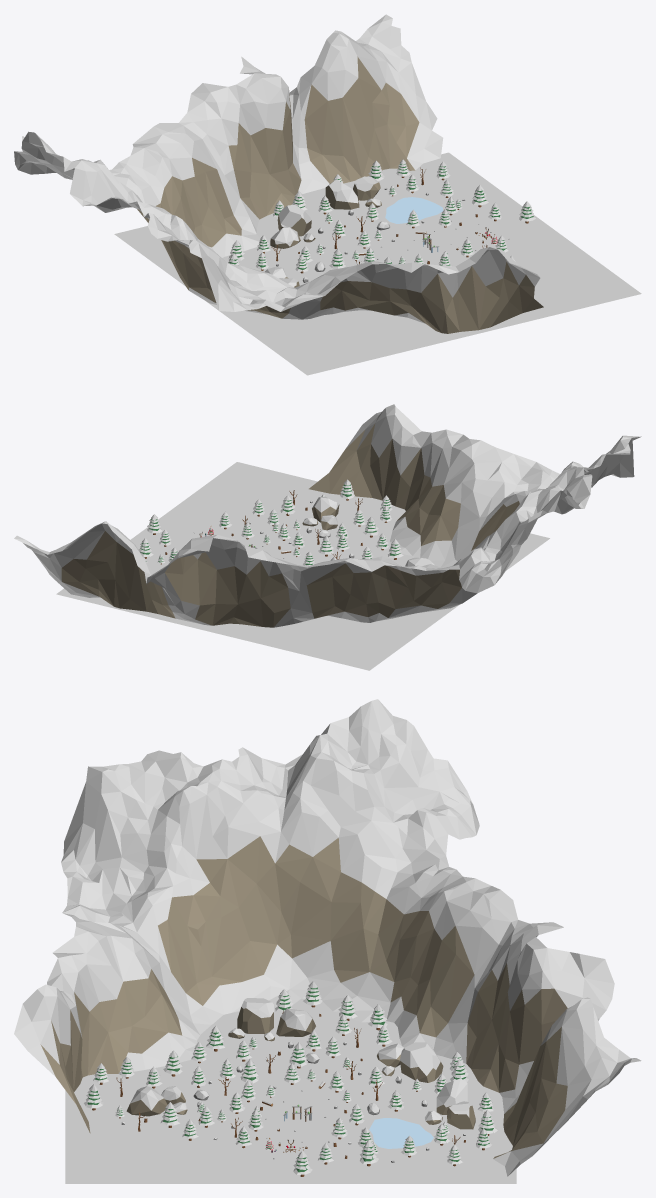
File: angrybirds.glb
3 renders of one model, top to bottom at view 1: azimuth 30°, elevation 25°; view 2: azimuth 150°, elevation 25°; view 3: azimuth 270°, elevation 25°, orthographic. The views are drawn at different scales.
Parts seen in each view (by area): view 1: Static, Ground; view 2: Static, Ground; view 3: Static, Ground.
Part boxes in pixels (bbox=[...]): Static: bbox=[14, 14, 543, 333]; Ground: bbox=[114, 152, 641, 375]; Static: bbox=[14, 404, 641, 627]; Ground: bbox=[56, 462, 549, 670]; Static: bbox=[14, 699, 641, 1176]; Ground: bbox=[65, 998, 516, 1183].
Bounding box in the file's own units: 387 × 140 × 376.
